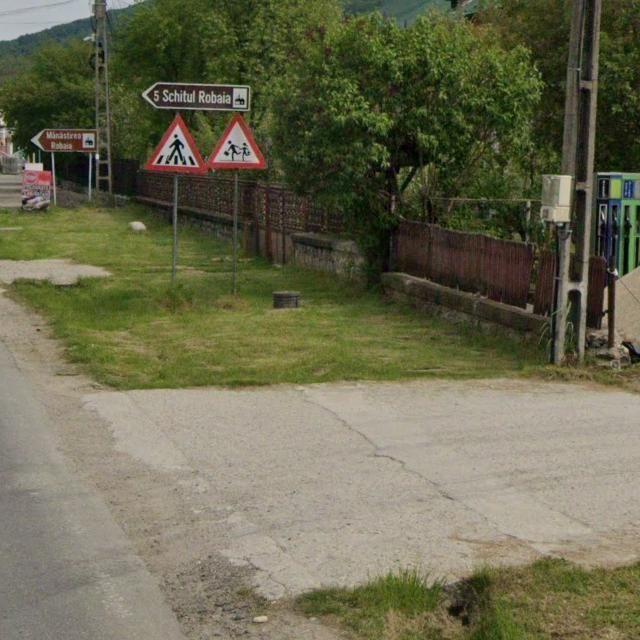warn_crosswalk: (144, 114, 208, 174)
